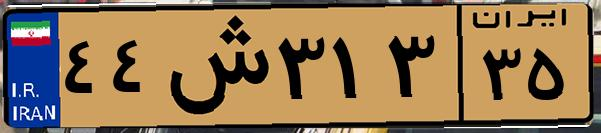1: (330, 28, 385, 110)
3: (270, 28, 330, 110), (385, 28, 445, 110), (475, 38, 525, 113)
4: (57, 26, 110, 100), (110, 28, 158, 98)
5: (525, 38, 570, 115)
ش: (158, 12, 270, 120)
